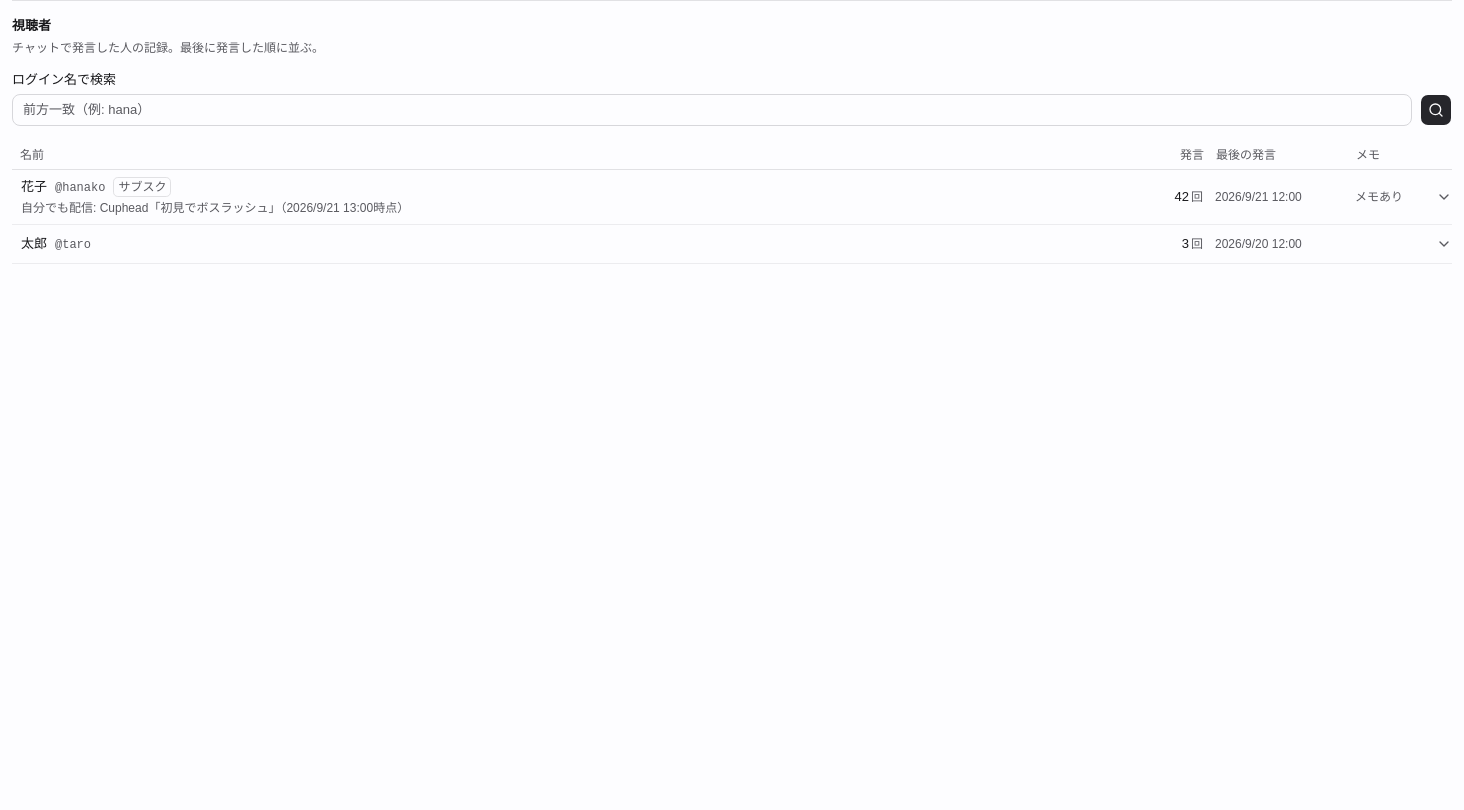
Test: メモ › 保存に失敗したら、理由を出す
Expected: the list named "視聴者の一覧" is shown, [12,170,1452,264]
Click the button "花子" at (84, 188), box [12,170,1428,224]
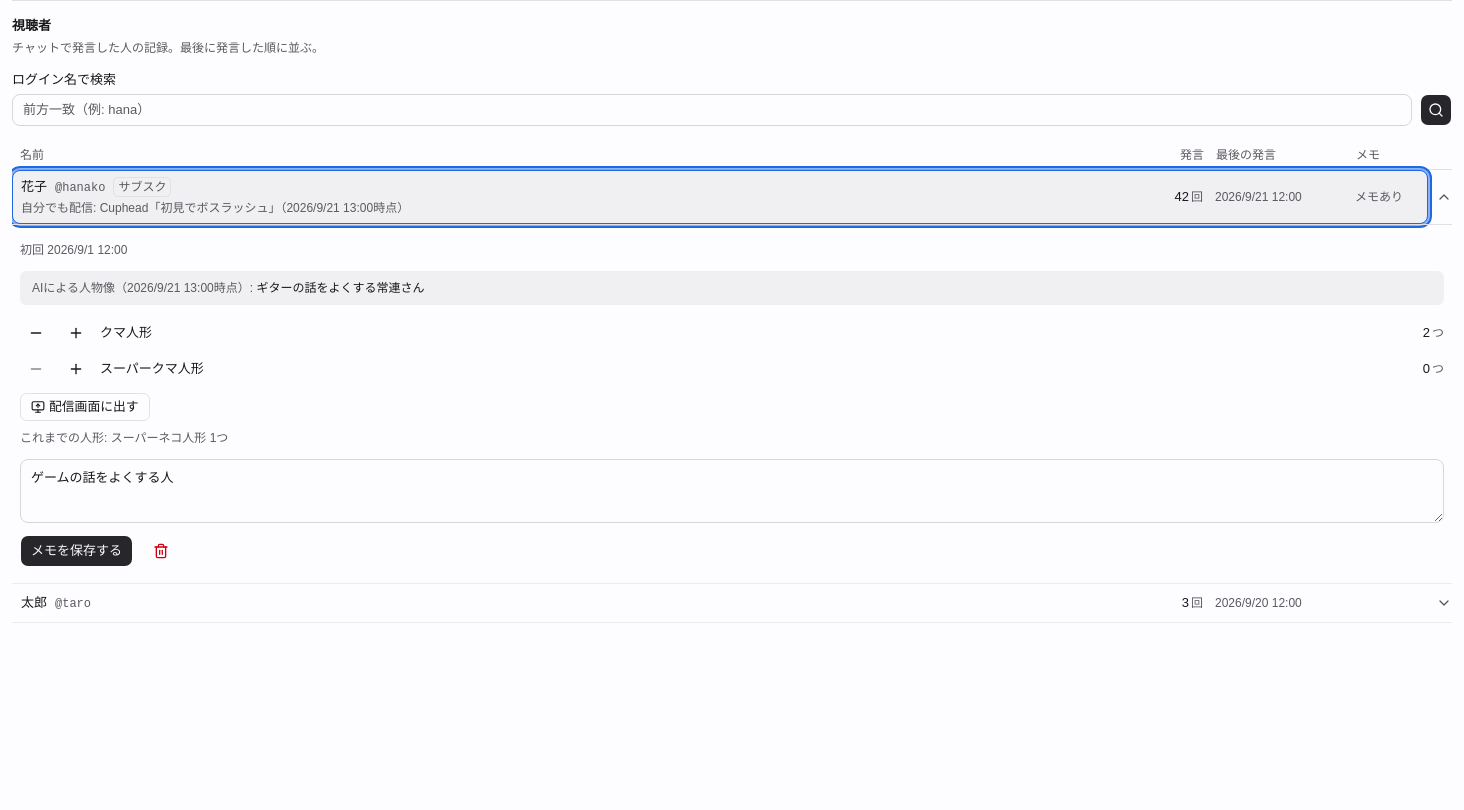
Click the button with aria-label "花子 のメモを保存する" at (76, 551), box [20,535,133,567]
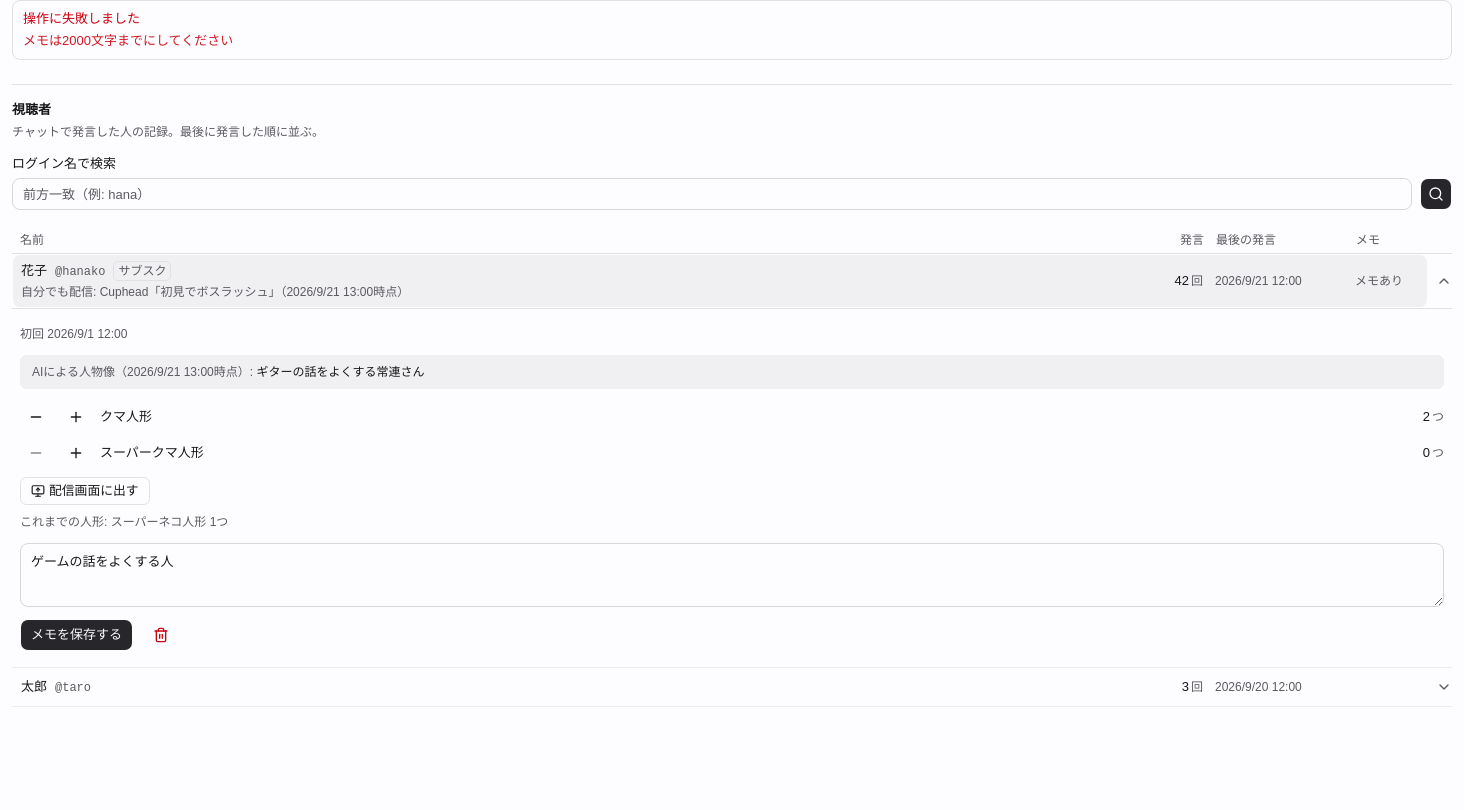
Now the text "メモは2000文字までにしてください" is shown, box [23,33,233,48]
